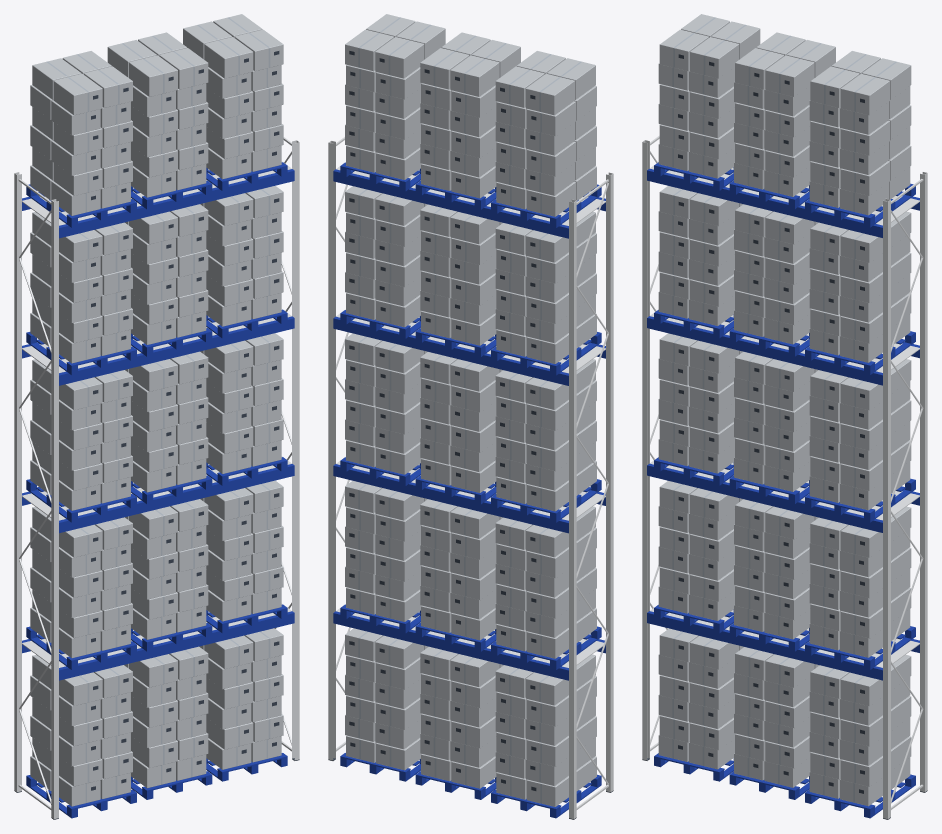
File: SM_MPR_CADRack_F5_W144_Standard.fbx
3 views of the same model, side by side, from view 1: azimuth 30°, elevation 25°; view 2: azimuth 150°, elevation 25°; view 3: azimuth 330°, elevation 25° (orthographic).
Parts seen in each view (by area): view 1: SM_MPR_CADRack_F5_W144_Standard; view 2: SM_MPR_CADRack_F5_W144_Standard; view 3: SM_MPR_CADRack_F5_W144_Standard.
Boxes of the visible parts, left/top/right/bottom form: SM_MPR_CADRack_F5_W144_Standard: left=14, top=14, right=299, bottom=819; SM_MPR_CADRack_F5_W144_Standard: left=328, top=14, right=613, bottom=819; SM_MPR_CADRack_F5_W144_Standard: left=642, top=14, right=927, bottom=819.
Size of the model in its own units: 381 by 122 by 1068.
